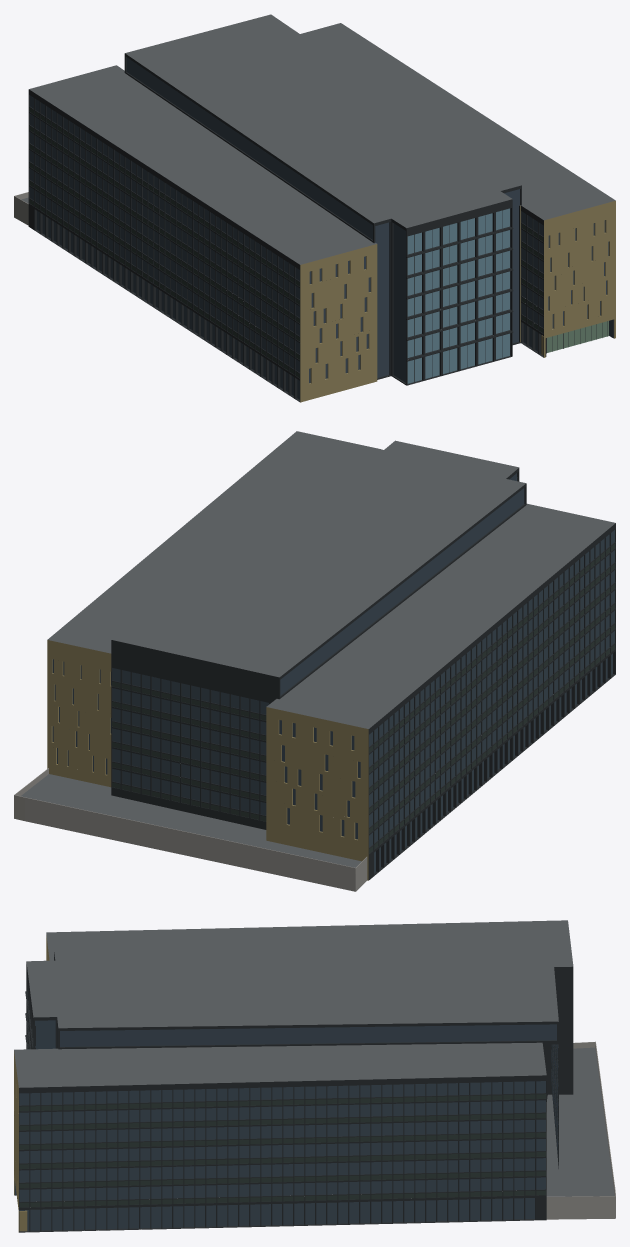
File: forum-office.glb
3 renders of one model, top to bottom at view 1: azimuth 30°, elevation 25°; view 2: azimuth 150°, elevation 25°; view 3: azimuth 270°, elevation 25°, orthographic. The views are drawn at different scales.
Parts seen in each view (by area): view 1: forum-office; view 2: forum-office; view 3: forum-office.
Boxes of the visible parts, left/top/right/bottom form: forum-office: left=14, top=14, right=615, bottom=402; forum-office: left=14, top=431, right=615, bottom=891; forum-office: left=14, top=920, right=615, bottom=1232.
Bounding box in the file's own units: 65.55 × 30.1 × 99.1.
